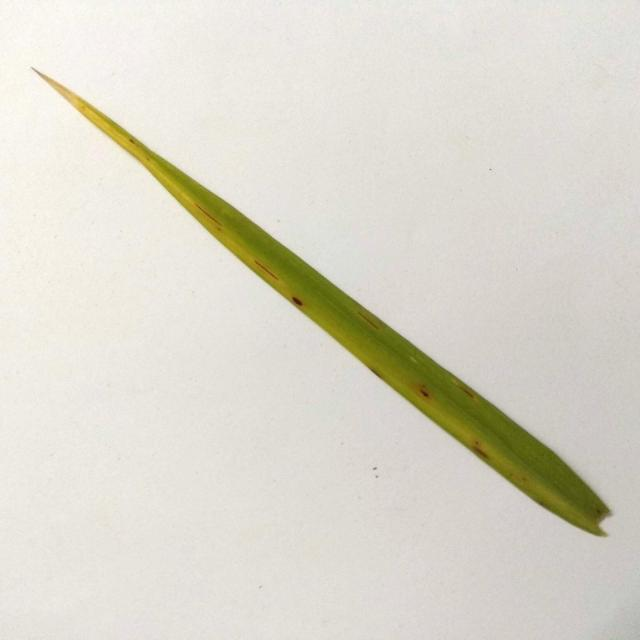Brown spot: (0, 32, 627, 544)
